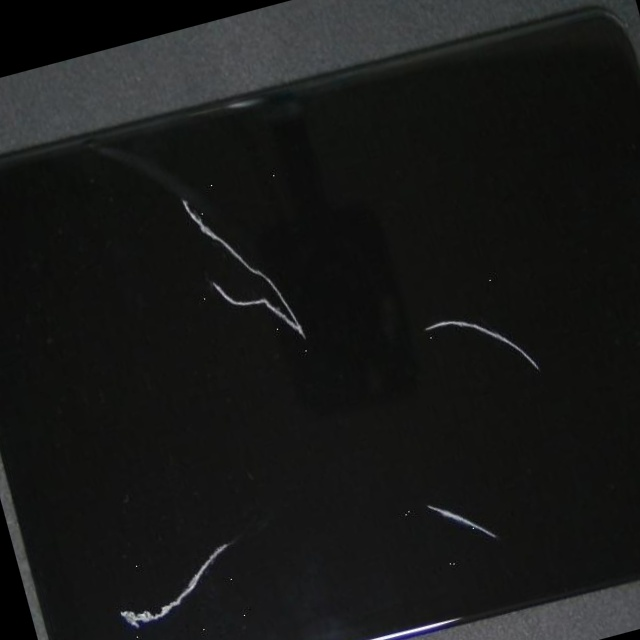scratch: (99, 168, 640, 640), (154, 63, 640, 520), (0, 61, 393, 499), (0, 270, 209, 640)
